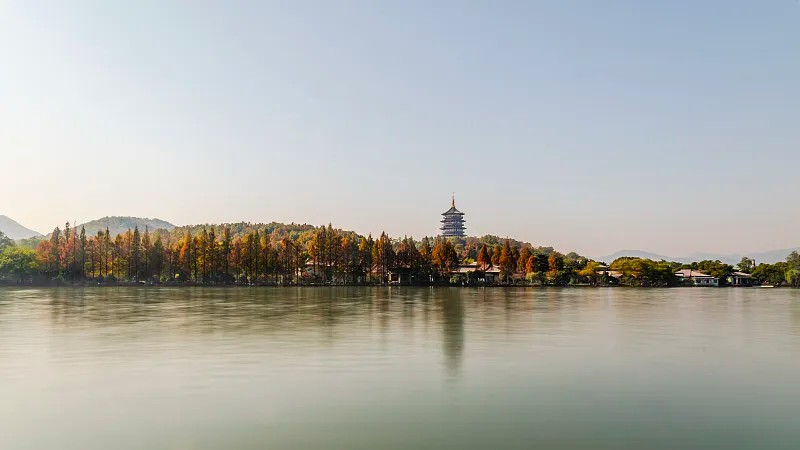Leifeng: (439, 190, 467, 239)
